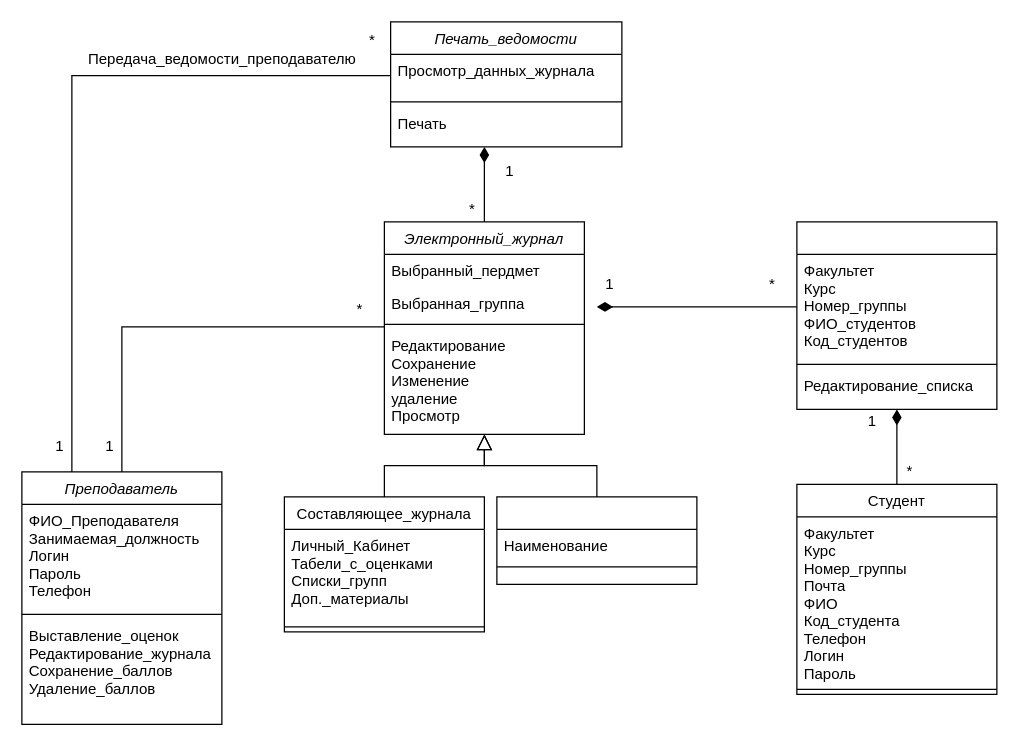
The diagram is 1019 pixels wide and 746 high, and some of its shapes have lost their labels. Here are the shapes that lost their labels. From the top down, the box of each, then its label:
(796, 221, 997, 409): Список_группы
(496, 496, 697, 584): Предмет
